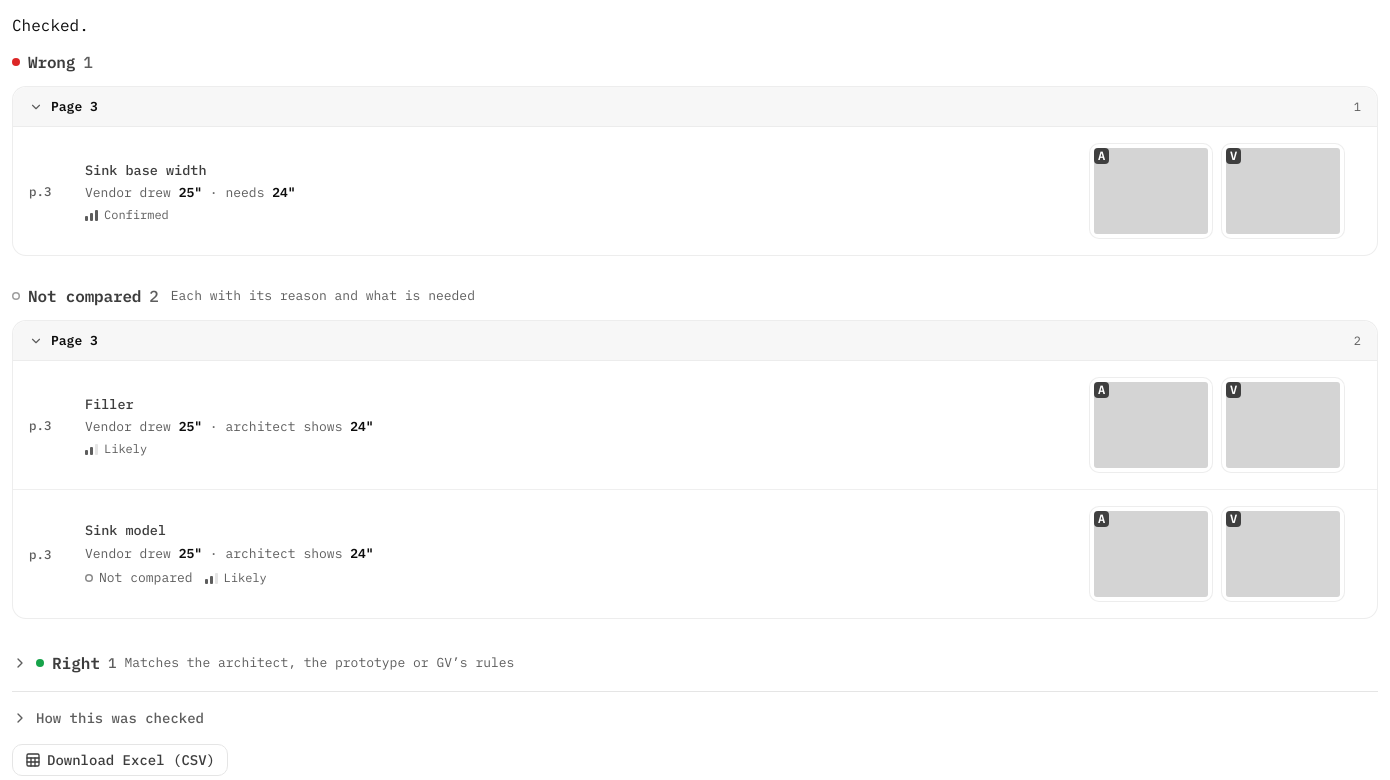
Test case: unknowns › lists what was not checked in “How this was checked”: why and what is needed
Click the button "How this was checked". click: (120, 718)
box: [12,704,1378,732]
(page scrolled)
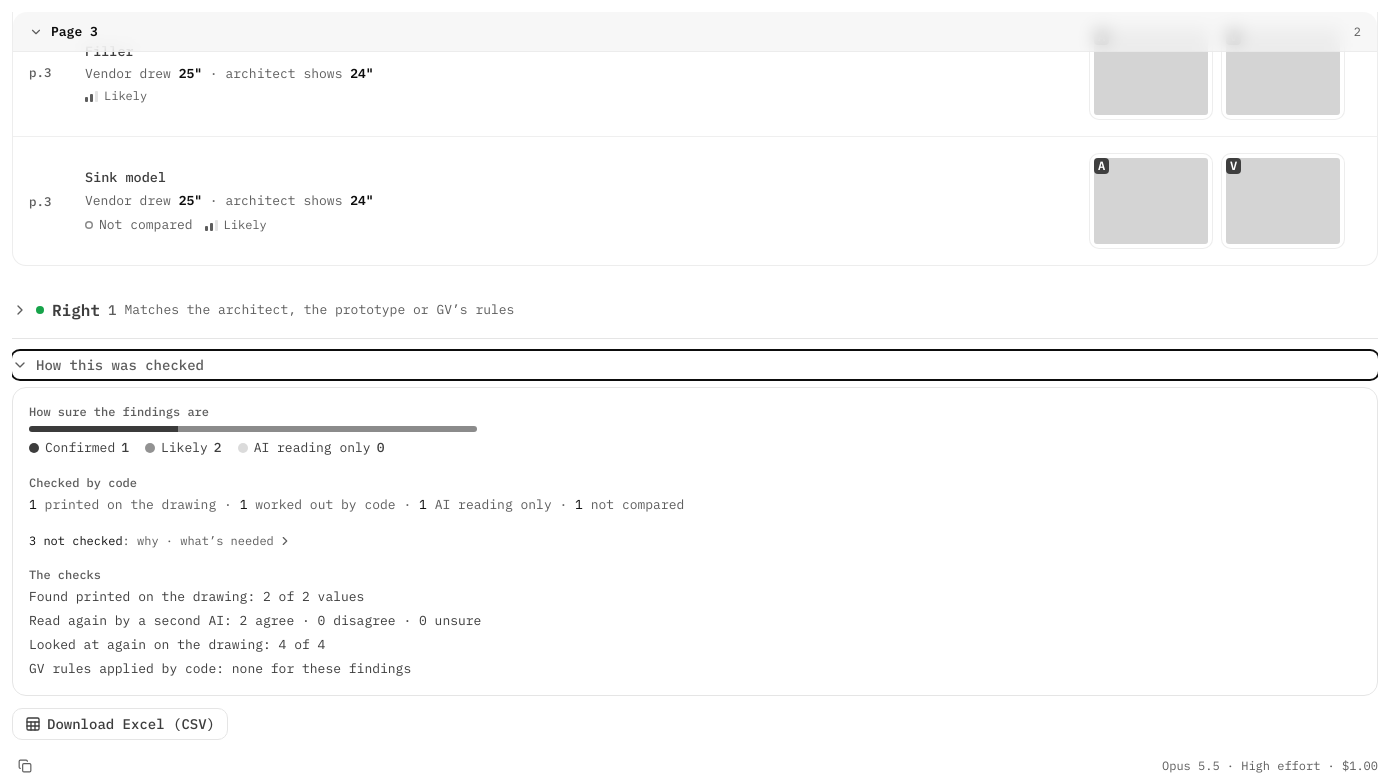
expect the element that starts with "printed on the drawing ·" shows "1 printed on the drawing · 1 worked out by code · 1 AI reading only · 1 not compared": met, box [29,496,684,512]
Click the button "3 not checked: why · what’s needed". click: (160, 541)
box: [29,531,292,551]
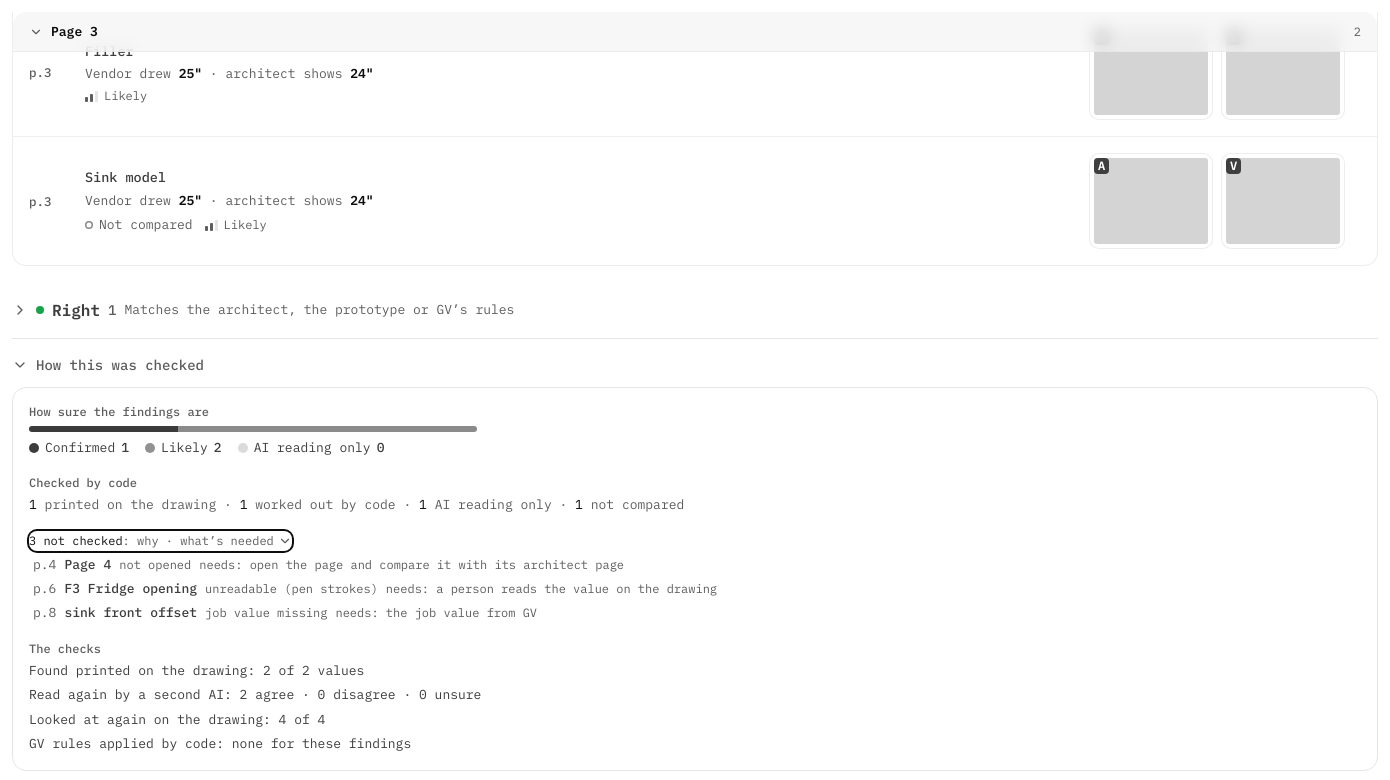
expect the list item that starts with "F3 Fridge opening" shows "unreadable (pen strokes)": met, box [205,581,378,596]
expect the list item that starts with "sink front offset" shows "needs: the job value from GV": met, box [33,604,537,621]
